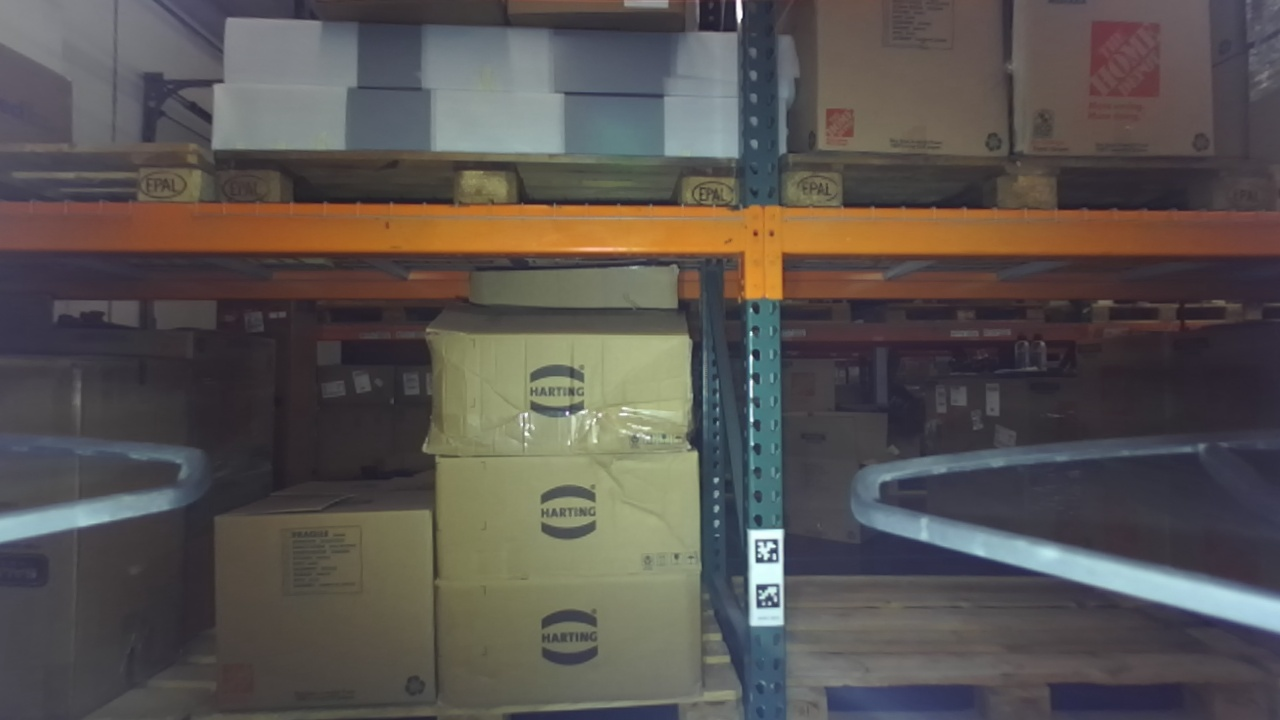box: (195, 480, 448, 720), (410, 293, 720, 472), (424, 573, 724, 720), (419, 448, 729, 590), (790, 1, 1028, 177), (999, 1, 1231, 178)
